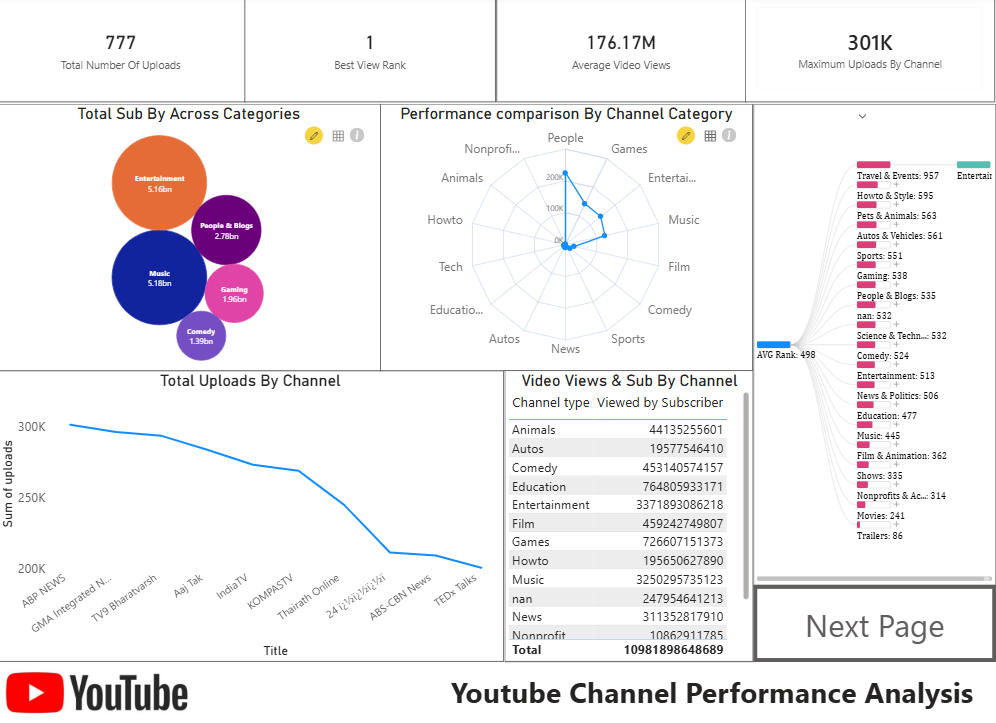

The page's visual inventory and layout, read from the dashboard file:
{"tool":"powerbi","page":{"name":"Page 1","canvas":[1500,1100],"ordinal":0},"visuals":[{"type":"card","fields":{"Values":["Count(Global YouTube Statistics.uploads)"]},"box":[0,0,374.9,160.7],"z":0},{"type":"card","fields":{"Values":["Global YouTube Statistics.Minimum view rank"]},"box":[373.2,0,376.6,160.7],"z":1000},{"type":"card","fields":{"Values":["Global YouTube Statistics.Avg view"]},"box":[749.8,0,374.9,160.7],"z":2000},{"type":"lineChart","title":"Total Uploads By Channel","fields":{"Y":["Sum(Global YouTube Statistics.uploads)"],"Category":["Global YouTube Statistics.Title"]},"box":[0,563.2,761.9,437.1],"z":3000},{"type":"radarChartE89D21F3E4E64221B79113B5015EA81B","title":"Performance comparison By Channel Category","fields":{"category":["Global YouTube Statistics.channel_type"],"measure":["Sum(Global YouTube Statistics.channel_type_rank)"]},"box":[575.3,162.4,559.8,400.8],"z":4000},{"type":"packedBubble563FBEFA65CC43A48496B6BB533D9890","title":"Total Sub By Across Categories","fields":{"category":["Global YouTube Statistics.category"],"measure":["Sum(Global YouTube Statistics.subscribers)"]},"box":[0,162.4,577.1,400.8],"z":5000},{"type":"tableEx","title":"Video Views & Sub By Channel","fields":{"Values":["Global YouTube Statistics.video views","Global YouTube Statistics.subscribers"]},"box":[761.9,563.2,373.2,437.1],"z":6000},{"type":"cardVisual","fields":{"Data":["Global YouTube Statistics.Max Upload"]},"box":[1124.7,0,374.9,160.7],"z":7000},{"type":"decomposition50DB3783432B40A69C0B91926CE74CD9","fields":{"Category":["Global YouTube Statistics.category","Global YouTube Statistics.channel_type","Global YouTube Statistics.created_year","Global YouTube Statistics.Country"],"Measure":["Global YouTube Statistics.AVG Rank"]},"box":[1135.1,162.4,364.5,722.2],"z":8000},{"type":"actionButton","box":[1135.1,884.6,364.5,115.8],"z":9000},{"type":"textbox","box":[342,1012,816,74],"z":10000},{"type":"image","box":[0,986,302,114],"z":11000},{"type":"image","box":[1192,1000,308,98],"z":12000}]}

Visuals, with their boxes in screenshot pixels (x1, y1, x2, y2), scaled from the page's 1500x1100 canvas onto the 996x723 screenshot:
card - Count(Global YouTube Statistics.uploads): (0, 0, 249, 106)
card - Global YouTube Statistics.Minimum view rank: (248, 0, 498, 106)
card - Global YouTube Statistics.Avg view: (498, 0, 747, 106)
"Total Uploads By Channel" lineChart: (0, 370, 506, 657)
"Performance comparison By Channel Category" radarChartE89D21F3E4E64221B79113B5015EA81B: (382, 107, 754, 370)
"Total Sub By Across Categories" packedBubble563FBEFA65CC43A48496B6BB533D9890: (0, 107, 383, 370)
"Video Views & Sub By Channel" tableEx: (506, 370, 754, 657)
cardVisual - Global YouTube Statistics.Max Upload: (747, 0, 995, 106)
decomposition50DB3783432B40A69C0B91926CE74CD9 - Global YouTube Statistics.category x Global YouTube Statistics.channel_type: (754, 107, 995, 581)
actionButton: (754, 581, 995, 658)
textbox: (227, 665, 769, 714)
image: (0, 648, 201, 722)
image: (791, 657, 995, 722)
